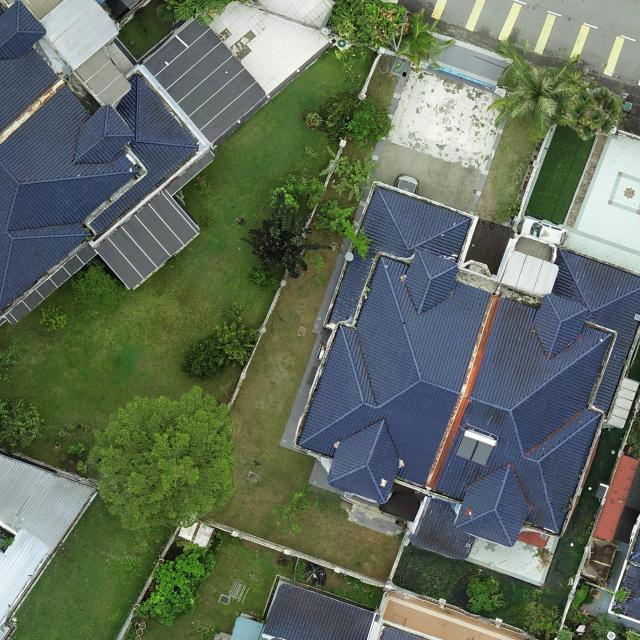Tree: (88, 385, 235, 532), (483, 36, 605, 139), (240, 190, 333, 278), (134, 542, 216, 627), (395, 7, 456, 72), (560, 84, 624, 142), (318, 145, 378, 203), (68, 258, 125, 314), (215, 300, 260, 367), (346, 96, 394, 150), (0, 394, 47, 449), (277, 162, 325, 212), (180, 334, 228, 382), (313, 198, 357, 238), (465, 574, 507, 614), (320, 95, 356, 139), (524, 601, 562, 640), (0, 334, 24, 383), (590, 612, 626, 640), (37, 302, 68, 332), (614, 588, 628, 602)
